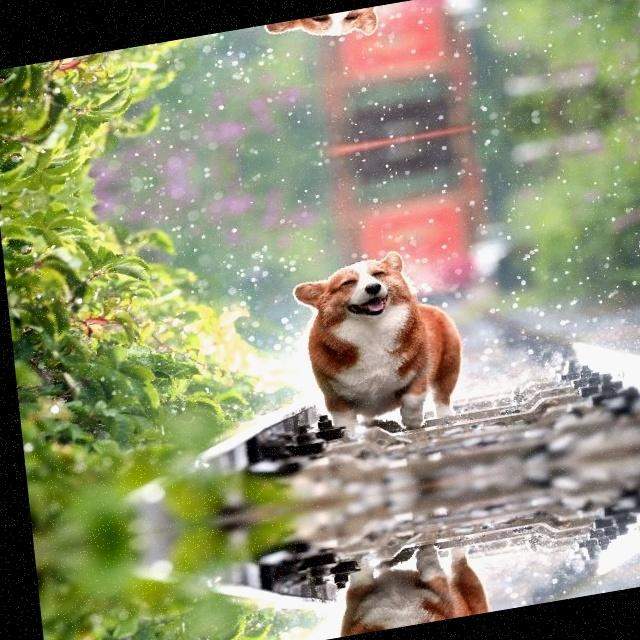dog: (280, 236, 478, 448), (312, 535, 498, 640), (255, 0, 436, 56)
